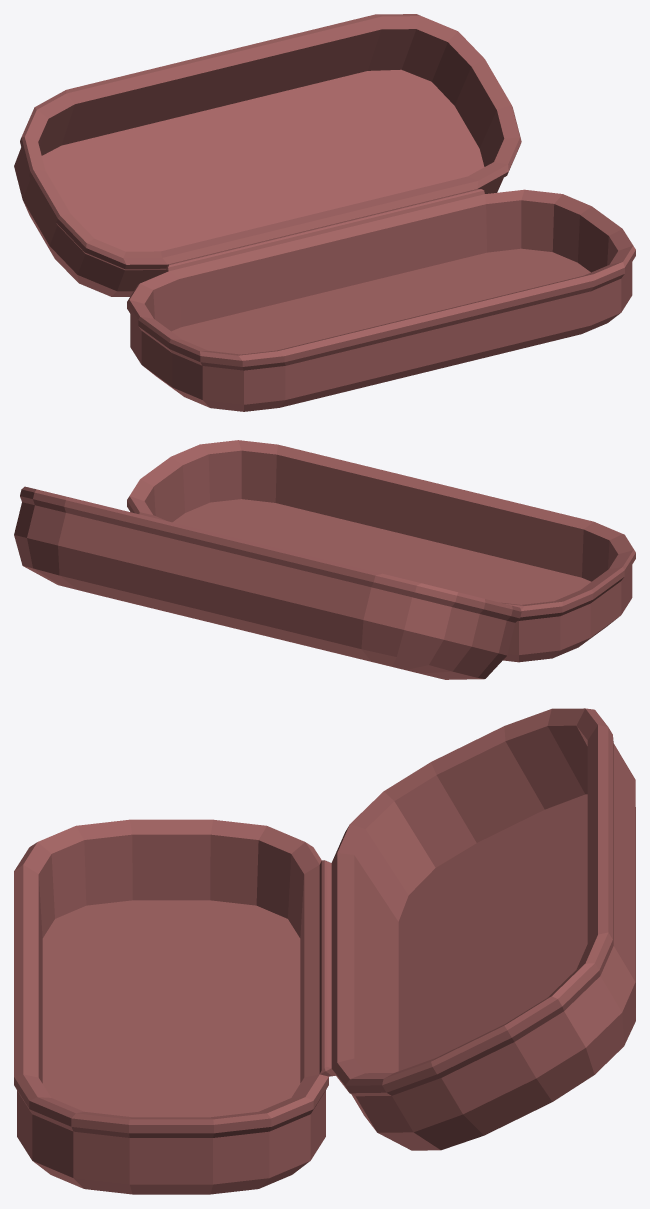
File: pencil_case_open.fbx
The picture shows the model from 3 angles, top to bottom: view 1: azimuth 30°, elevation 25°; view 2: azimuth 150°, elevation 25°; view 3: azimuth 270°, elevation 25°; orthographic projection. The views are drawn at different scales.
Visible parts, largest first — view 1: pencil case open; view 2: pencil case open; view 3: pencil case open.
Part boxes in pixels (left/top/right/bottom): pencil case open: left=14, top=14, right=635, bottom=411; pencil case open: left=14, top=440, right=635, bottom=679; pencil case open: left=14, top=708, right=635, bottom=1194.
Size of the model in its own units: 34.08 by 11.82 by 29.69.
